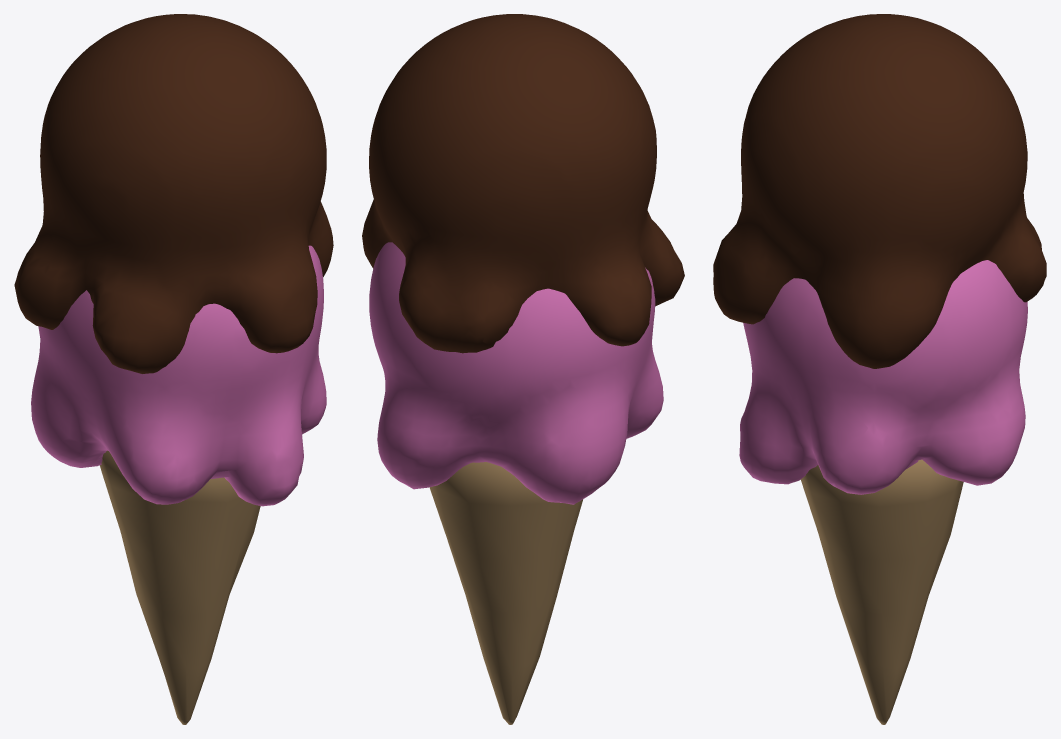
Rendered from icecream.fbx.
3 views of the same model, side by side, from view 1: azimuth 30°, elevation 25°; view 2: azimuth 150°, elevation 25°; view 3: azimuth 270°, elevation 25° (orthographic).
Parts seen in each view (by area): view 1: Cylinder.005; view 2: Cylinder.005; view 3: Cylinder.005.
Part boxes in pixels (<box>): Cylinder.005: <box>14,14,333,724</box>; Cylinder.005: <box>362,14,684,724</box>; Cylinder.005: <box>713,14,1046,724</box>.
Bounding box in the file's own units: 194 × 446 × 194.
